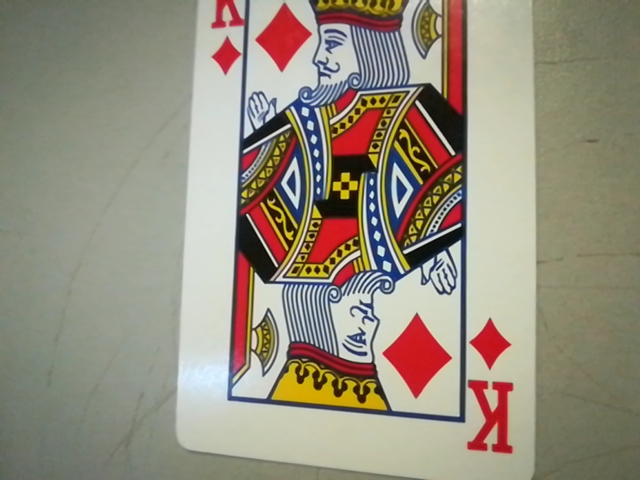fk k: (458, 316, 526, 468), (200, 0, 250, 76)
